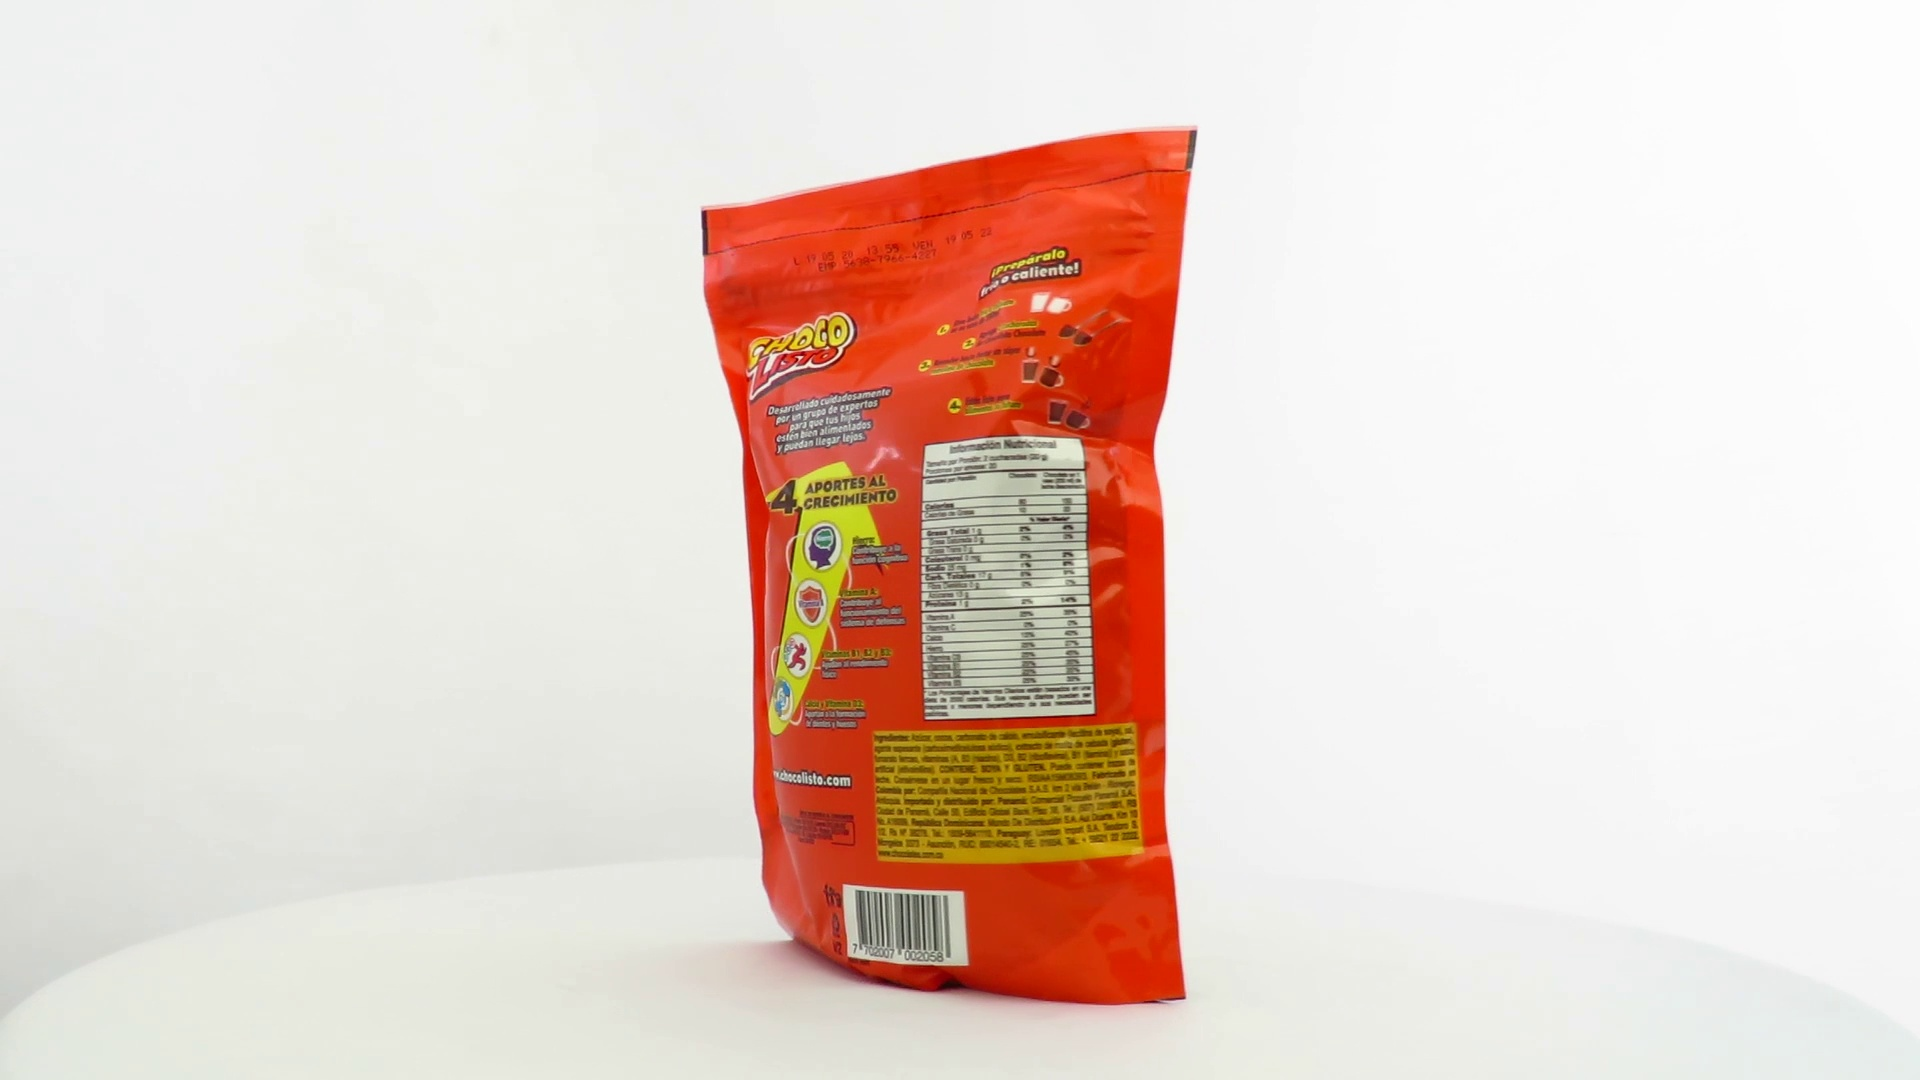COL0170103DYP40000: (696, 120, 1204, 1011)
